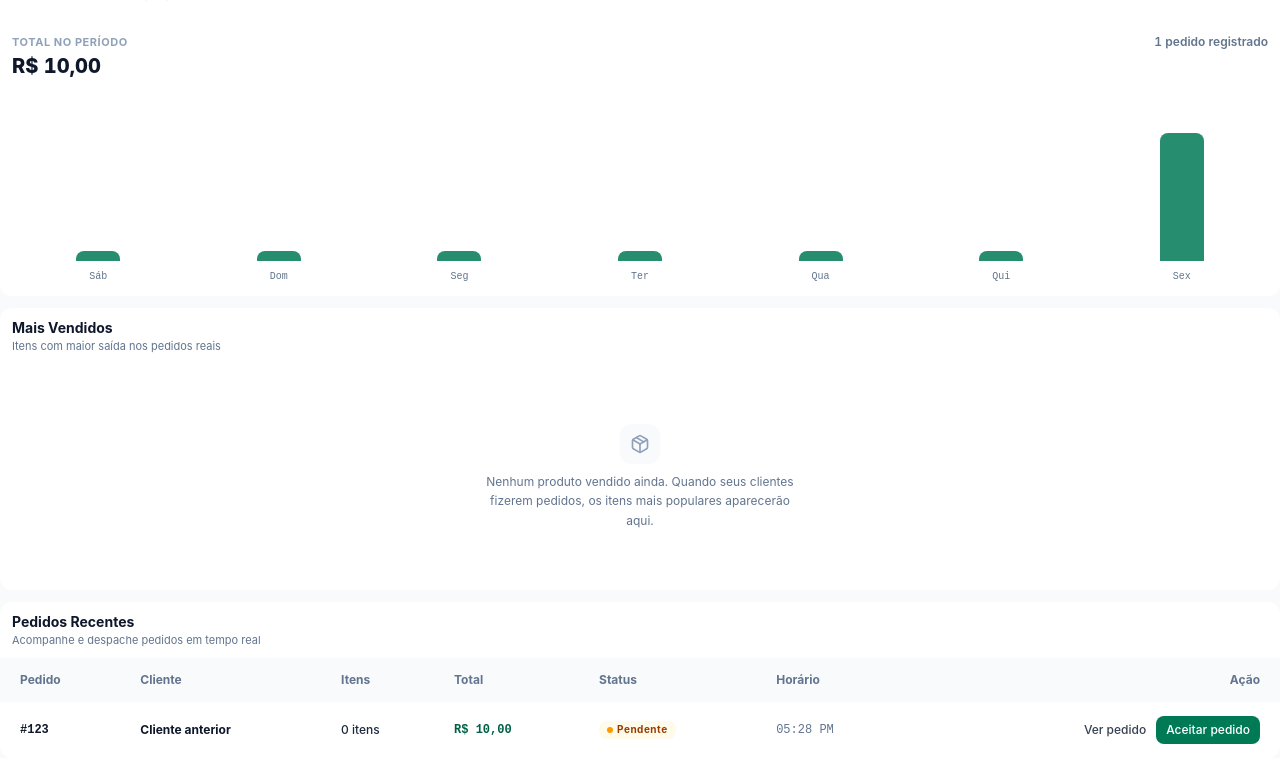
Test case: ciclo da loja ativa no dashboard › não mostra toast de uma aceitação concluída após trocar de loja
(page scrolled)
Click the button "Aceitar pedido". click: (1208, 730)
box: [1156, 716, 1260, 744]
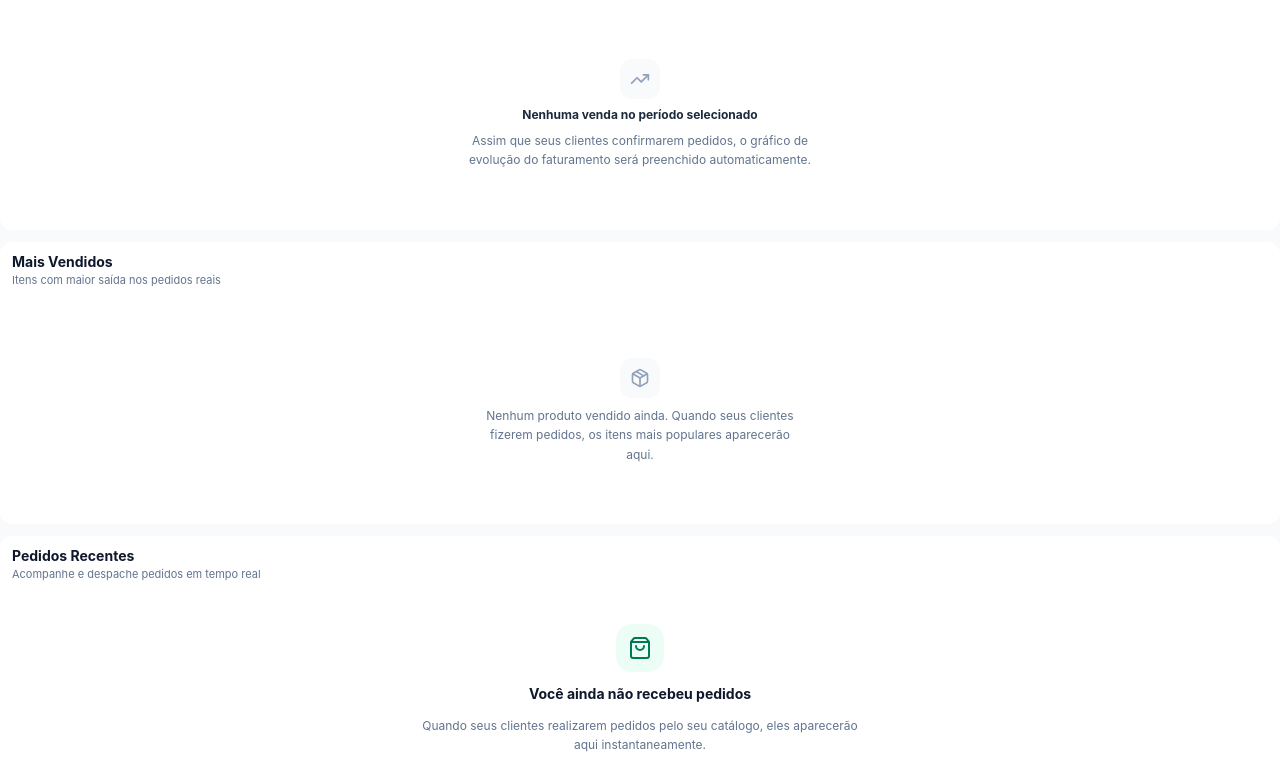
Result: the text "Cliente anterior" is gone
